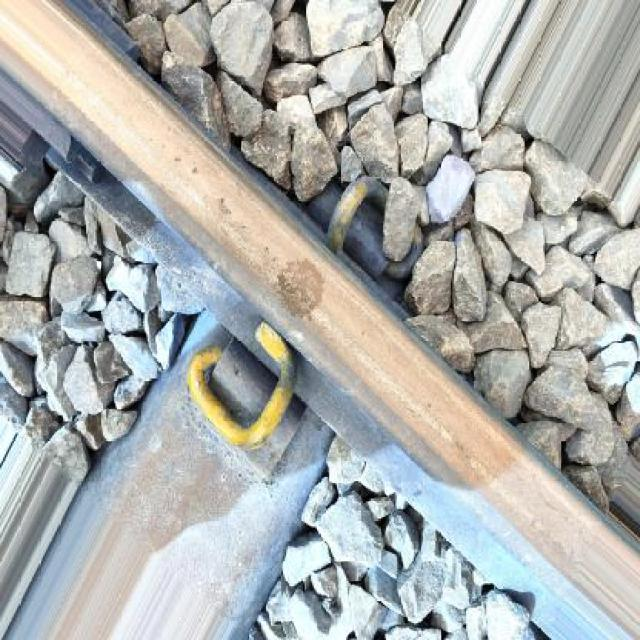non-defective: (50, 123, 608, 572)
